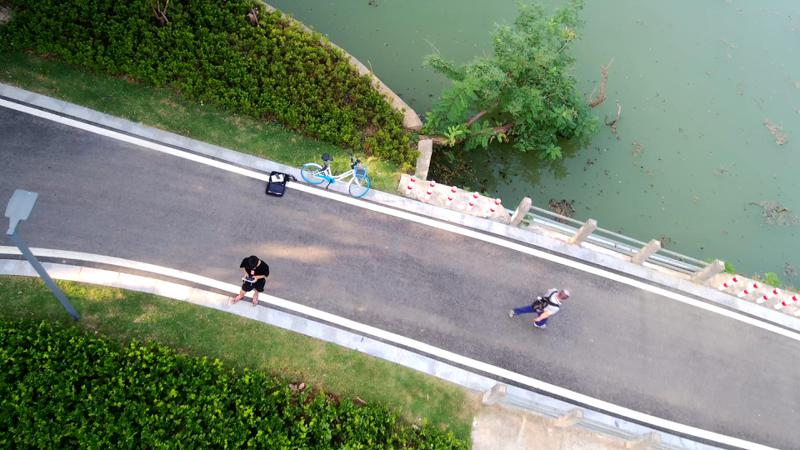passerby: (507, 286, 572, 329), (230, 253, 270, 307)
